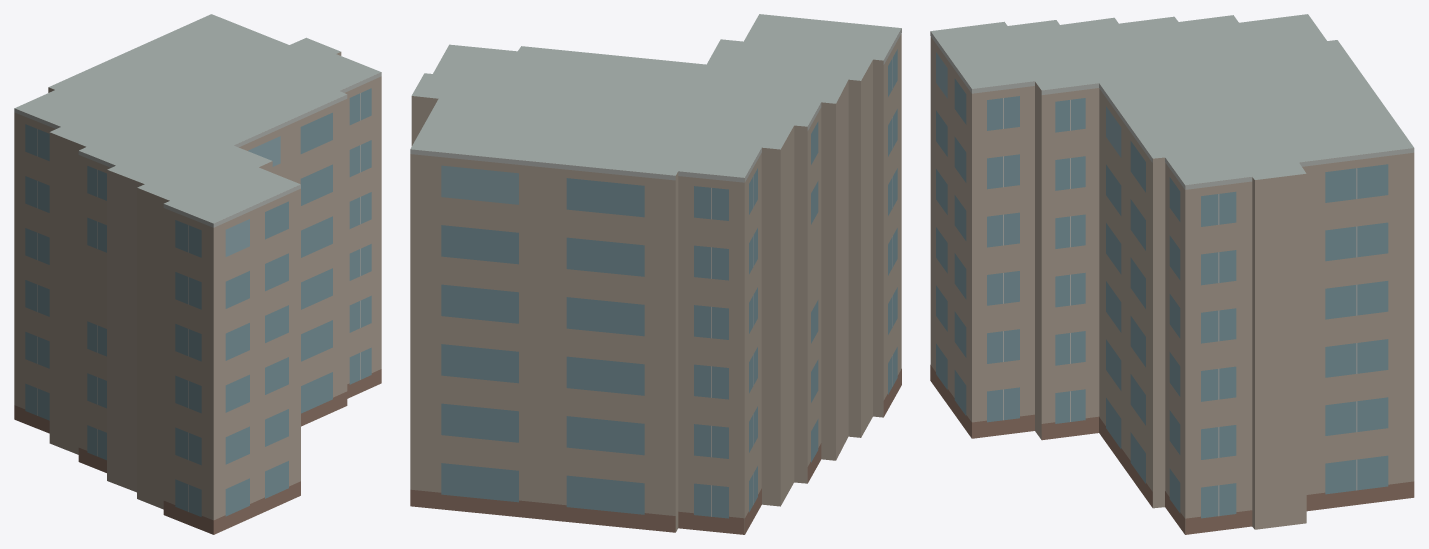
File: survey-upis-32929021.glb
3 renders of one model, left to right at view 1: azimuth 30°, elevation 25°; view 2: azimuth 150°, elevation 25°; view 3: azimuth 270°, elevation 25°, orthographic. The views are drawn at different scales.
Visible parts, largest first — view 1: survey-upis-32929021.tmp; view 2: survey-upis-32929021.tmp; view 3: survey-upis-32929021.tmp.
Boxes of the visible parts, box(x1,y1,x2,y2) form: survey-upis-32929021.tmp: box(14, 14, 381, 534); survey-upis-32929021.tmp: box(410, 14, 901, 534); survey-upis-32929021.tmp: box(930, 14, 1414, 534).
Bounding box in the file's own units: 19.18 × 18.25 × 22.9.
